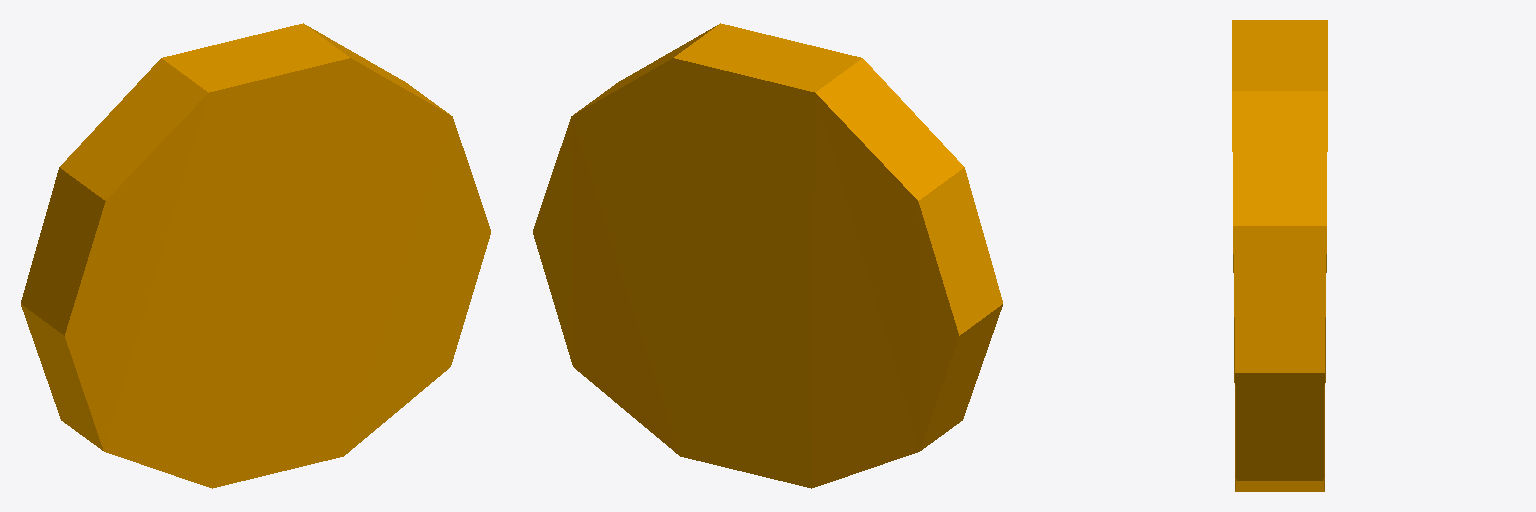
The robot description file, URDF, robot "sliced_peeled_brown_onion":
<?xml version="1.0"?>
<robot name="sliced_peeled_brown_onion">
  <link name="slicedpeeledOnion">
    <inertial>
        <origin rpy="0 0 0" xyz="0 0 0"/>
        <mass value="0.01"/>
        <inertia ixx="4.4e-5" ixy="0" ixz="0" iyy="0" iyz="0" izz="4.4e-5"/>
    </inertial>
    <visual>
      <geometry>
        <mesh filename="onionSlice.obj"/>
      </geometry>
    </visual>
    <collision>
      <geometry>
        <mesh filename="onionSlice.obj"/>
      </geometry>
      <surface>
           <bounce restitution_coefficient = "0.1"/>
      </surface>
    </collision>
  </link>
</robot>

--- What the picture shows (computed from the rendered views, not written in the file) ---
The picture shows the robot from 3 angles, left to right: view 1: azimuth 30°, elevation 25°; view 2: azimuth 150°, elevation 25°; view 3: azimuth 270°, elevation 25°; orthographic projection.
Robot: sliced_peeled_brown_onion — 1 links, 0 joints (none); root link slicedpeeledOnion; default pose: all joints at 0.
Visible links, largest first — view 1: slicedpeeledOnion; view 2: slicedpeeledOnion; view 3: slicedpeeledOnion.
Link boxes in pixels (bbox=[...]): slicedpeeledOnion: bbox=[21, 23, 490, 488]; slicedpeeledOnion: bbox=[533, 23, 1002, 488]; slicedpeeledOnion: bbox=[1232, 20, 1327, 491].
Size in the robot's own frame: 0.1065 by 0.0205 by 0.095 metres.
Meshes: 1 distinct files referenced, 1 mesh visuals loaded (1 OBJ).
